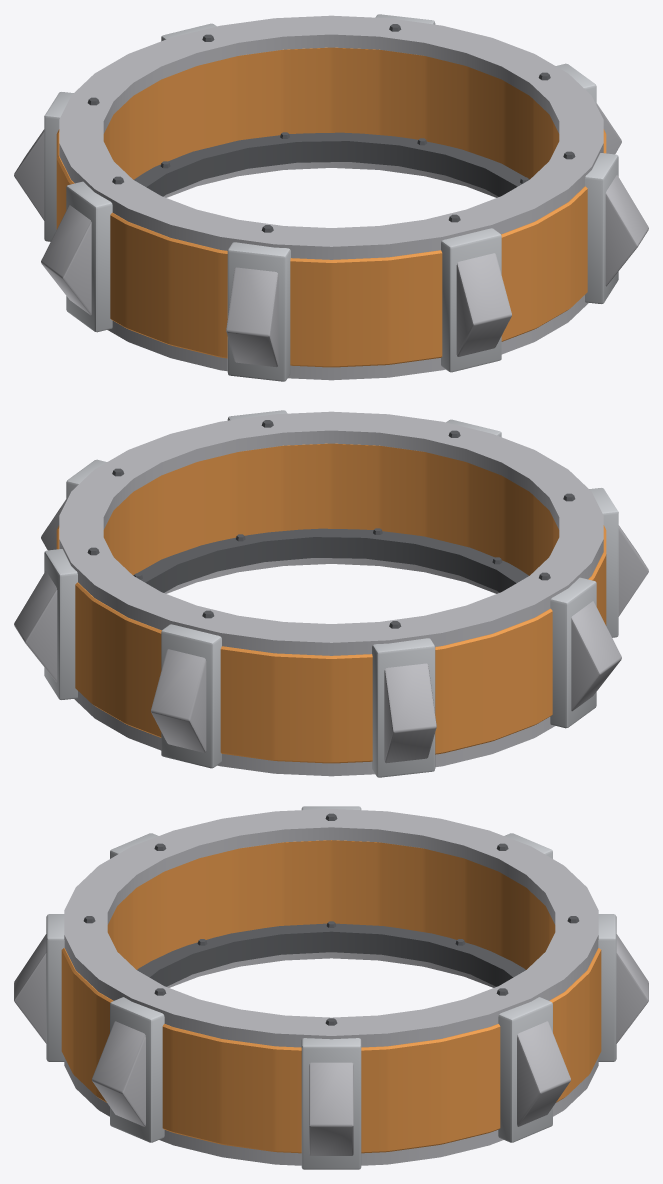
The model's file is full_body_spinner.glb.
3 views of the same model, one above another, from view 1: azimuth 30°, elevation 25°; view 2: azimuth 150°, elevation 25°; view 3: azimuth 270°, elevation 25° (orthographic).
Visible parts, largest first — view 1: body; view 2: body; view 3: body.
Part boxes in pixels (x1,y1,x2,y2): body: (14,14,648,381); body: (14,410,648,777); body: (14,806,648,1169).
Bounding box in the file's own units: 0.9001 × 0.2125 × 0.9001.
